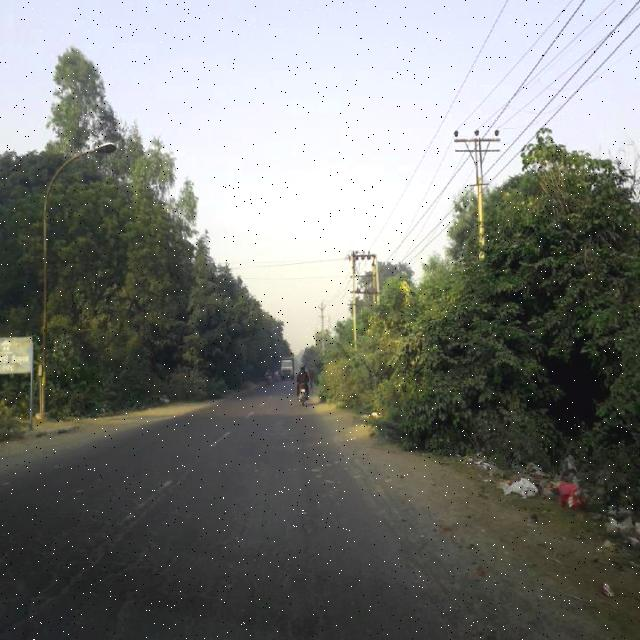D20: (2, 476, 204, 632)
